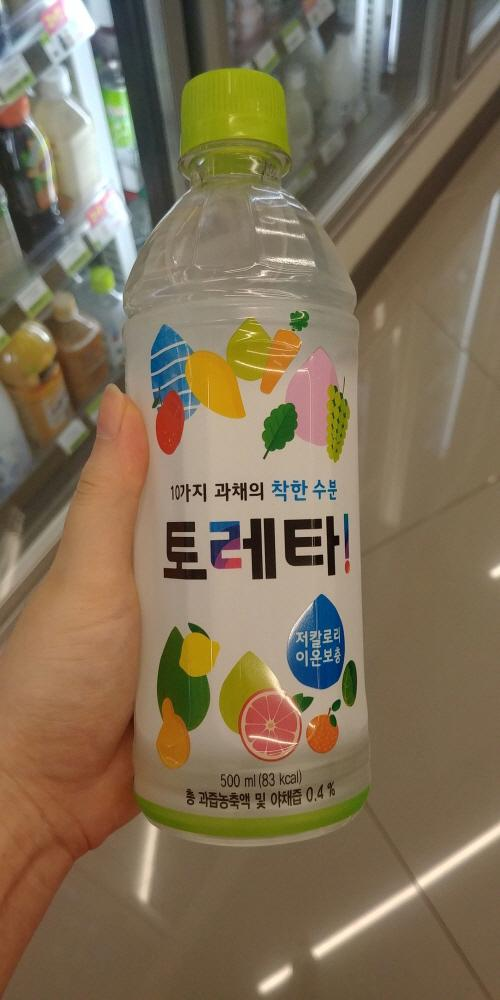toreta: (106, 58, 381, 862)
